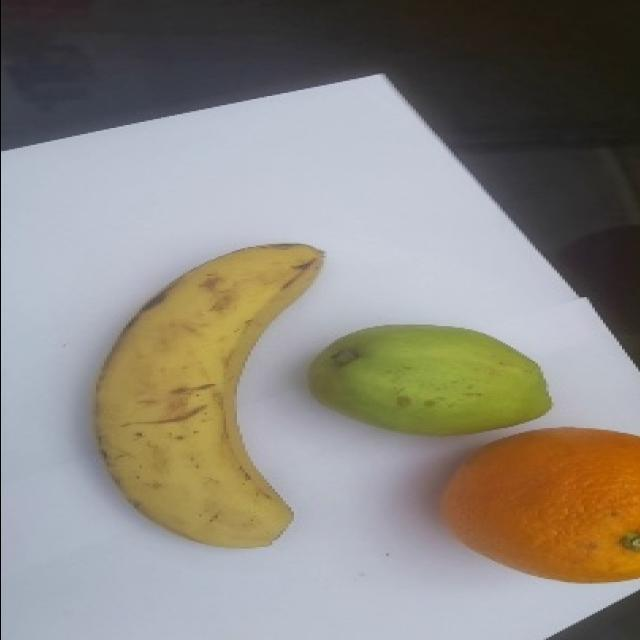Banana: (93, 241, 326, 548)
Orange: (439, 425, 639, 584)
